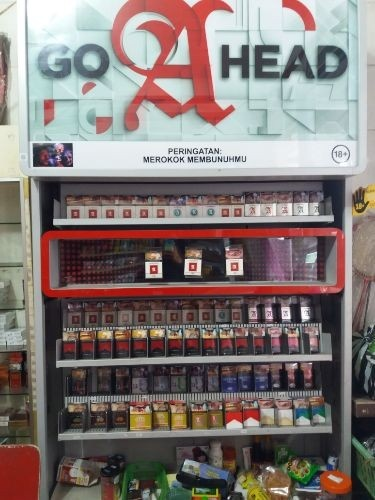A Mild 12: (231, 309, 243, 323), (219, 205, 231, 218), (231, 205, 244, 217)
A Mild 16: (144, 263, 163, 278), (165, 310, 181, 326), (185, 259, 200, 275), (84, 312, 99, 328), (182, 310, 197, 326), (198, 309, 213, 325), (152, 206, 170, 219), (102, 312, 117, 327), (117, 311, 132, 326), (133, 311, 148, 326), (150, 310, 165, 325), (67, 206, 84, 219), (101, 206, 118, 219), (118, 206, 135, 219), (135, 206, 152, 219), (67, 313, 81, 328), (85, 206, 101, 219), (227, 260, 241, 274)
A Mild Menthol 16: (214, 309, 229, 324), (202, 205, 219, 218), (186, 206, 202, 218), (171, 206, 185, 219)
Avolution Menthol 20: (300, 307, 314, 322), (279, 308, 292, 324), (293, 203, 308, 216), (309, 203, 324, 216)
Avolution Red 20: (263, 308, 276, 323), (276, 204, 292, 216), (245, 204, 260, 216), (260, 204, 275, 216), (248, 308, 259, 323)
Dji Sam Soe 16: (129, 414, 150, 430), (152, 412, 169, 429), (170, 413, 188, 428)
Dji Sam Soe Super Premium 12: (111, 412, 128, 428), (69, 412, 85, 428), (90, 412, 106, 428)
Magnum Filter 12: (269, 375, 284, 390), (303, 373, 316, 390), (286, 373, 298, 390)
Magnum Mild 20: (236, 376, 254, 392), (254, 375, 270, 392), (220, 377, 236, 392)
Marlboro Black 20: (166, 340, 183, 356), (202, 339, 219, 355), (96, 341, 111, 359), (183, 339, 201, 354), (149, 340, 165, 356), (219, 339, 235, 355), (234, 339, 251, 354), (63, 341, 77, 359), (80, 342, 94, 360), (132, 340, 147, 356), (115, 340, 129, 357), (287, 337, 300, 355), (271, 339, 284, 354), (254, 338, 265, 354)
Marlboro Ice Burst 20: (295, 409, 310, 425), (311, 408, 325, 424)
Marlboro Light 20: (276, 410, 292, 426), (260, 410, 274, 425)
Marlboro Red 20: (224, 411, 243, 428), (242, 411, 259, 427)
Sampoerna Hijau 12: (207, 411, 225, 429), (190, 413, 207, 428)
U Mild 16: (153, 377, 170, 393), (132, 379, 148, 394), (191, 376, 205, 393), (207, 376, 220, 393)
U Mild Bold 16: (71, 380, 86, 396), (116, 378, 130, 394), (97, 378, 110, 394)
U Mild Cool 16: (170, 376, 186, 393)
display-amild: (26, 1, 363, 172)
